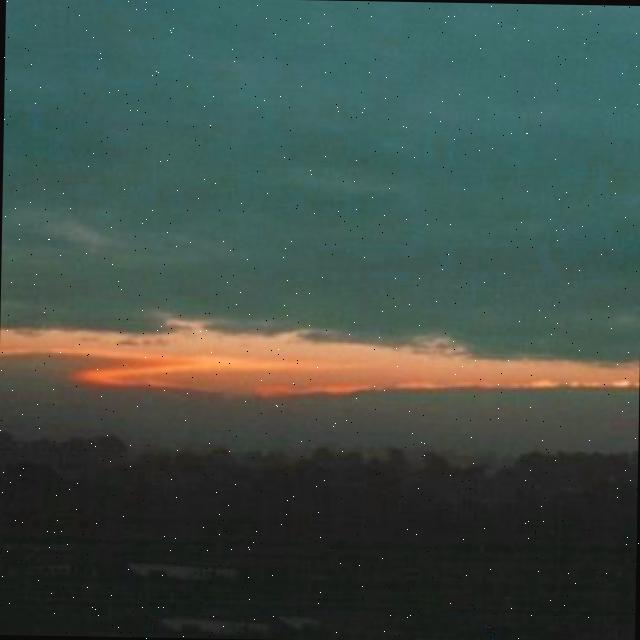Sc: (1, 1, 640, 380)
